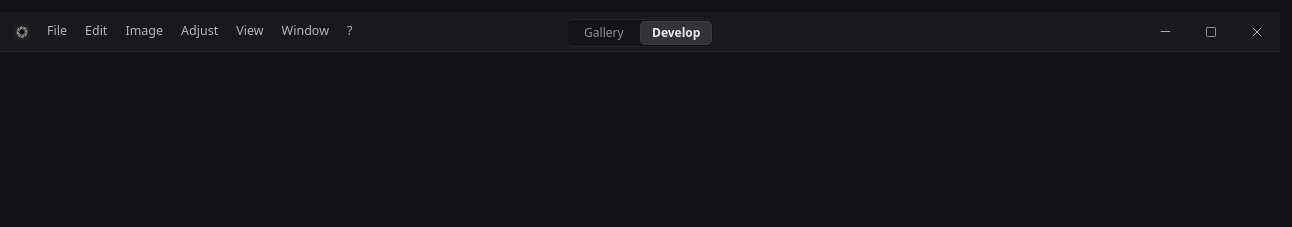
Scenario: D1/D2 — Adjust menu surface › has NO "Auto Color" item — replaced by "Auto White Balance" (WB half kept)
Click the button "Adjust".
click(200, 32)  # box [172,18,227,46]
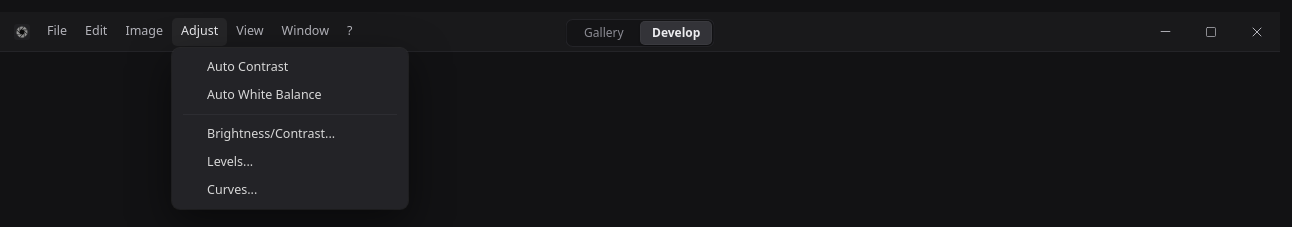
Now the text "Auto White Balance" is shown, box [207,86,322,103]
